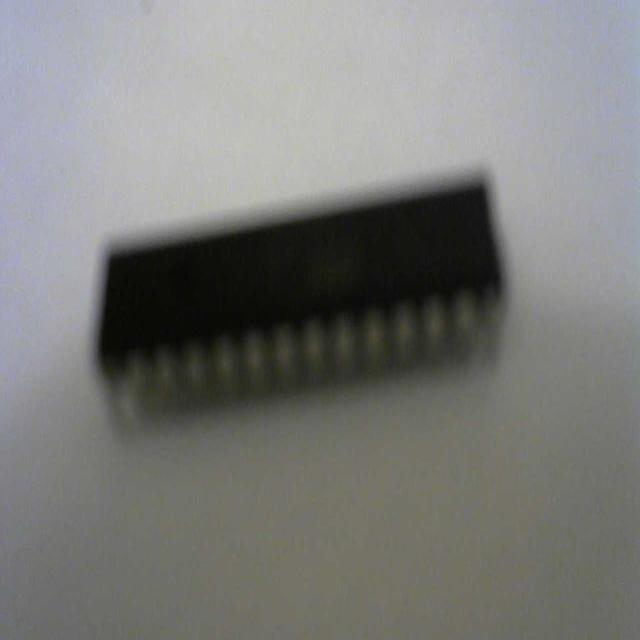atmega: (92, 168, 508, 426)
